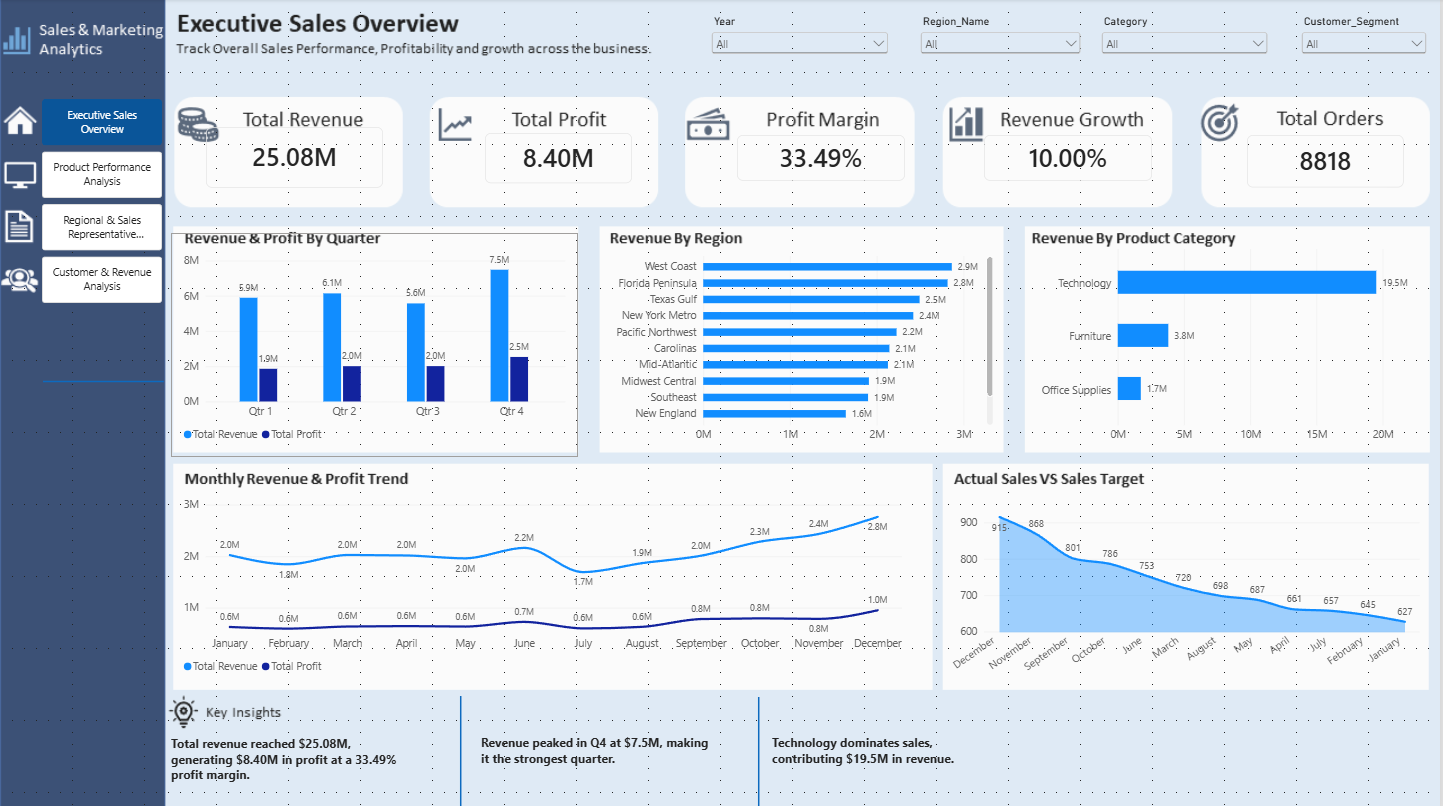

Layout of this report page (visuals, bound fields, positions):
{"tool":"powerbi","page":{"name":"Executive Sales Overview","canvas":[1920,1080],"ordinal":0},"visuals":[{"type":"card","fields":{"Values":["Sum(Sales_Transactions.Total_Sales)"]},"box":[274.3,169.1,236.2,80.8],"z":0},{"type":"card","fields":{"Values":["Sales_Transactions.Total Profit"]},"box":[646.1,176.8,196,66.7],"z":1000},{"type":"card","fields":{"Values":["Sales_Transactions.Porfit Margin"]},"box":[982.9,179.8,224,61],"z":2000},{"type":"card","fields":{"Values":["Sales_Transactions.Revenue Growth"]},"box":[1312,179.8,224,61],"z":3000},{"type":"card","fields":{"Values":["Sales_Transactions.Total Orders"]},"box":[1662.5,179.8,208.8,70.1],"z":4000},{"type":"clusteredColumnChart","fields":{"Category":["CALEDNDER_Table.Date.Variation.Date Hierarchy.Quarter"],"Y":["Sales_Transactions.Total Revenue","Sales_Transactions.Total Profit"]},"box":[228.6,310.9,542.5,298.7],"z":5000},{"type":"clusteredBarChart","fields":{"Category":["Regions.Region_Name"],"Y":["Sales_Transactions.Total Revenue"]},"box":[794.7,320,545.3,289.3],"z":6000},{"type":"clusteredBarChart","fields":{"Category":["Products.Category"],"Y":["Sales_Transactions.Total Revenue"]},"box":[1365.3,310.7,542.7,298.7],"z":7000},{"type":"lineChart","fields":{"Category":["CALEDNDER_Table.Date.Variation.Date Hierarchy.Month"],"Y":["Sales_Transactions.Total Revenue","Sales_Transactions.Total Profit"]},"box":[228,648,994.7,270.7],"z":8000},{"type":"pageNavigator","box":[56.7,132.2,160.5,273.8],"z":9000},{"type":"slicer","fields":{"Values":["Sales_Transactions.Order_Date Hierarchy.Year"]},"box":[943.5,20.6,245.5,86.4],"z":10000},{"type":"slicer","fields":{"Values":["Regions.Region_Name"]},"box":[1222.8,20.5,223.5,86.6],"z":11000},{"type":"slicer","fields":{"Values":["Products.Category"]},"box":[1463.6,20.5,231.3,86.6],"z":12000},{"type":"slicer","fields":{"Values":["Customers.Customer_Segment"]},"box":[1731.1,20.5,176.3,86.6],"z":13000},{"type":"areaChart","fields":{"Category":["Sales_Transactions.Order_Date Hierarchy.Month_Name"],"Y":["Sales_Transactions.Total Orders"]},"box":[1252.1,648.7,656.9,279.8],"z":14000},{"type":"textbox","box":[227.7,980.6,304,72],"z":15000},{"type":"shape","box":[57,406,161,204],"z":16000},{"type":"shape","box":[532.1,928.5,164.6,152.2],"z":17000},{"type":"textbox","box":[641.8,979.2,304,72],"z":18000},{"type":"shape","box":[929.8,929.8,164.6,152.2],"z":19000},{"type":"textbox","box":[1029.9,979.2,304,72],"z":20000}]}

Visuals, with their boxes on the page's 1920x1080 design canvas (x1, y1, x2, y2). These are canvas units, not pixel positions in the 1443x806 screenshot, which may show the page scaled, cropped or inside an application window:
card - Sum(Sales_Transactions.Total_Sales): bbox=(274, 169, 510, 250)
card - Sales_Transactions.Total Profit: bbox=(646, 177, 842, 244)
card - Sales_Transactions.Porfit Margin: bbox=(983, 180, 1207, 241)
card - Sales_Transactions.Revenue Growth: bbox=(1312, 180, 1536, 241)
card - Sales_Transactions.Total Orders: bbox=(1662, 180, 1871, 250)
clusteredColumnChart - CALEDNDER_Table.Date.Variation.Date Hierarchy.Quarter x Sales_Transactions.Total Revenue: bbox=(229, 311, 771, 610)
clusteredBarChart - Regions.Region_Name x Sales_Transactions.Total Revenue: bbox=(795, 320, 1340, 609)
clusteredBarChart - Products.Category x Sales_Transactions.Total Revenue: bbox=(1365, 311, 1908, 609)
lineChart - CALEDNDER_Table.Date.Variation.Date Hierarchy.Month x Sales_Transactions.Total Revenue: bbox=(228, 648, 1223, 919)
pageNavigator: bbox=(57, 132, 217, 406)
slicer - Sales_Transactions.Order_Date Hierarchy.Year: bbox=(944, 21, 1189, 107)
slicer - Regions.Region_Name: bbox=(1223, 20, 1446, 107)
slicer - Products.Category: bbox=(1464, 20, 1695, 107)
slicer - Customers.Customer_Segment: bbox=(1731, 20, 1907, 107)
areaChart - Sales_Transactions.Order_Date Hierarchy.Month_Name x Sales_Transactions.Total Orders: bbox=(1252, 649, 1909, 928)
textbox: bbox=(228, 981, 532, 1053)
shape: bbox=(57, 406, 218, 610)
shape: bbox=(532, 928, 697, 1081)
textbox: bbox=(642, 979, 946, 1051)
shape: bbox=(930, 930, 1094, 1082)
textbox: bbox=(1030, 979, 1334, 1051)
